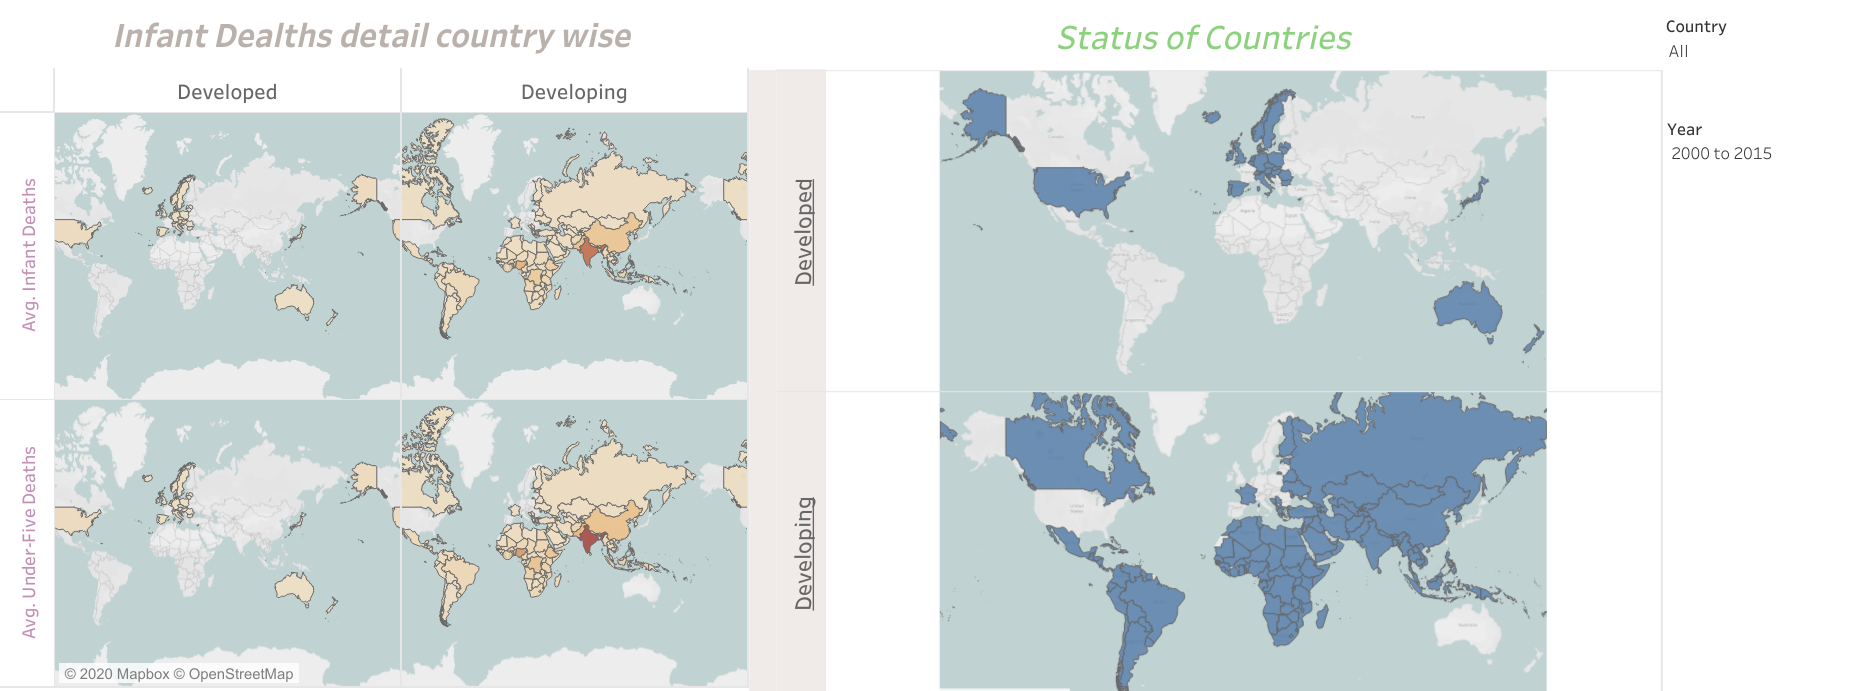

The page's visual inventory and layout, read from the dashboard file:
{"tool":"tableau","page":{"name":"Dashboard 2","canvas":[1000,1000],"units":"permille","ordinal":1},"visuals":[{"type":"worksheet","title":"Infants death","mark":"Automatic","cols":["Status"],"box":[0,3.7,403.9,992.7]},{"type":"worksheet","title":"Infants death","mark":"Automatic","cols":["Status"],"param":"[federated.0hne5ep1ldq4k111doeu51cfr4kq].[none:Country:nk]","box":[899,18.3,97.3,75.8]},{"type":"worksheet","title":"Infants death","mark":"Automatic","cols":["Status"],"param":"[federated.0hne5ep1ldq4k111doeu51cfr4kq].[none:Year:qk]","box":[899.6,166.3,97.3,84.4]}]}

Visuals, with their boxes on the dashboard's canvas, which has no fixed pixel size, in thousandths of its width and height (x1, y1, x2, y2). These are canvas units, not pixel positions in the 1852x691 screenshot, which may show the page scaled, cropped or inside an application window:
"Infants death" worksheet: (left=0, top=4, right=404, bottom=996)
"Infants death" worksheet: (left=899, top=18, right=996, bottom=94)
"Infants death" worksheet: (left=900, top=166, right=997, bottom=251)
